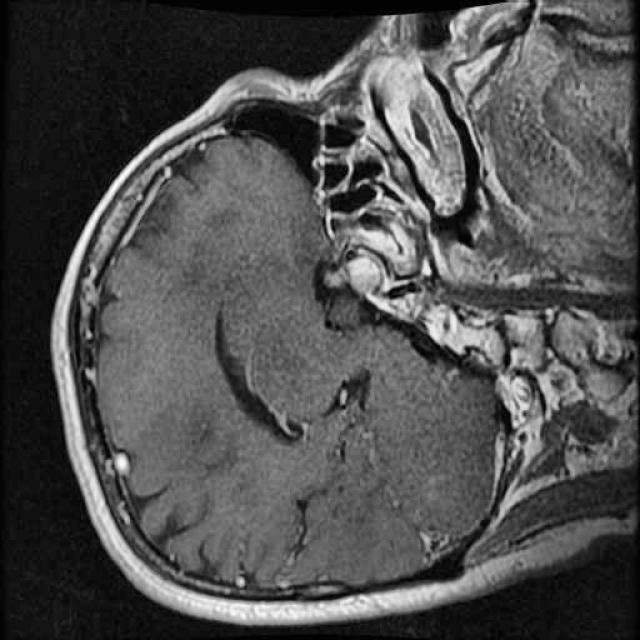Tumor: (314, 253, 396, 305)
